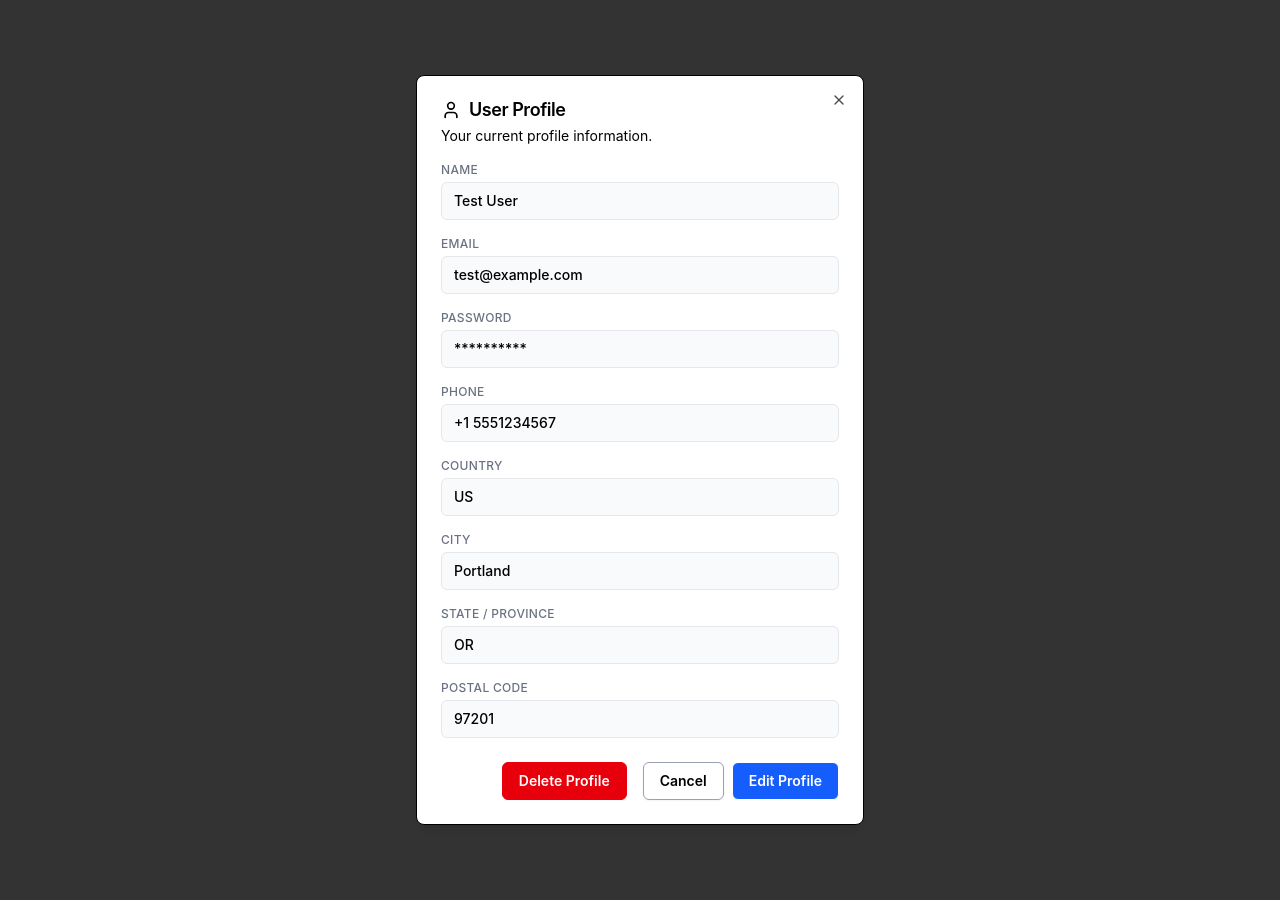
UserProfileModal › shows delete confirmation dialog
Click the button "Delete Profile" at [564, 781], box [502,762,627,800]
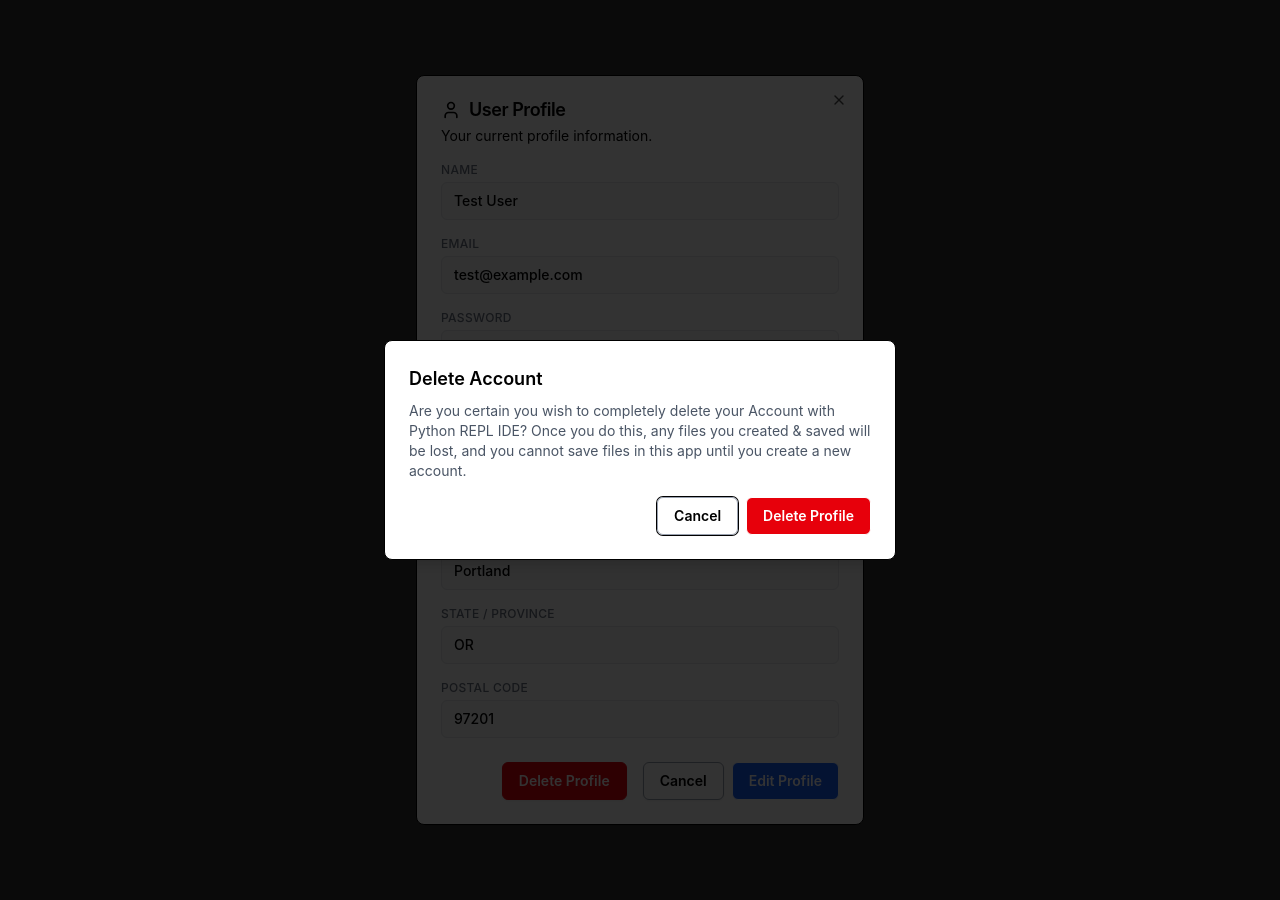
expect the heading "Delete Account" is shown: met, box [409,368,542,389]
expect the text "Are you certain" is shown: met, box [409,402,870,479]
